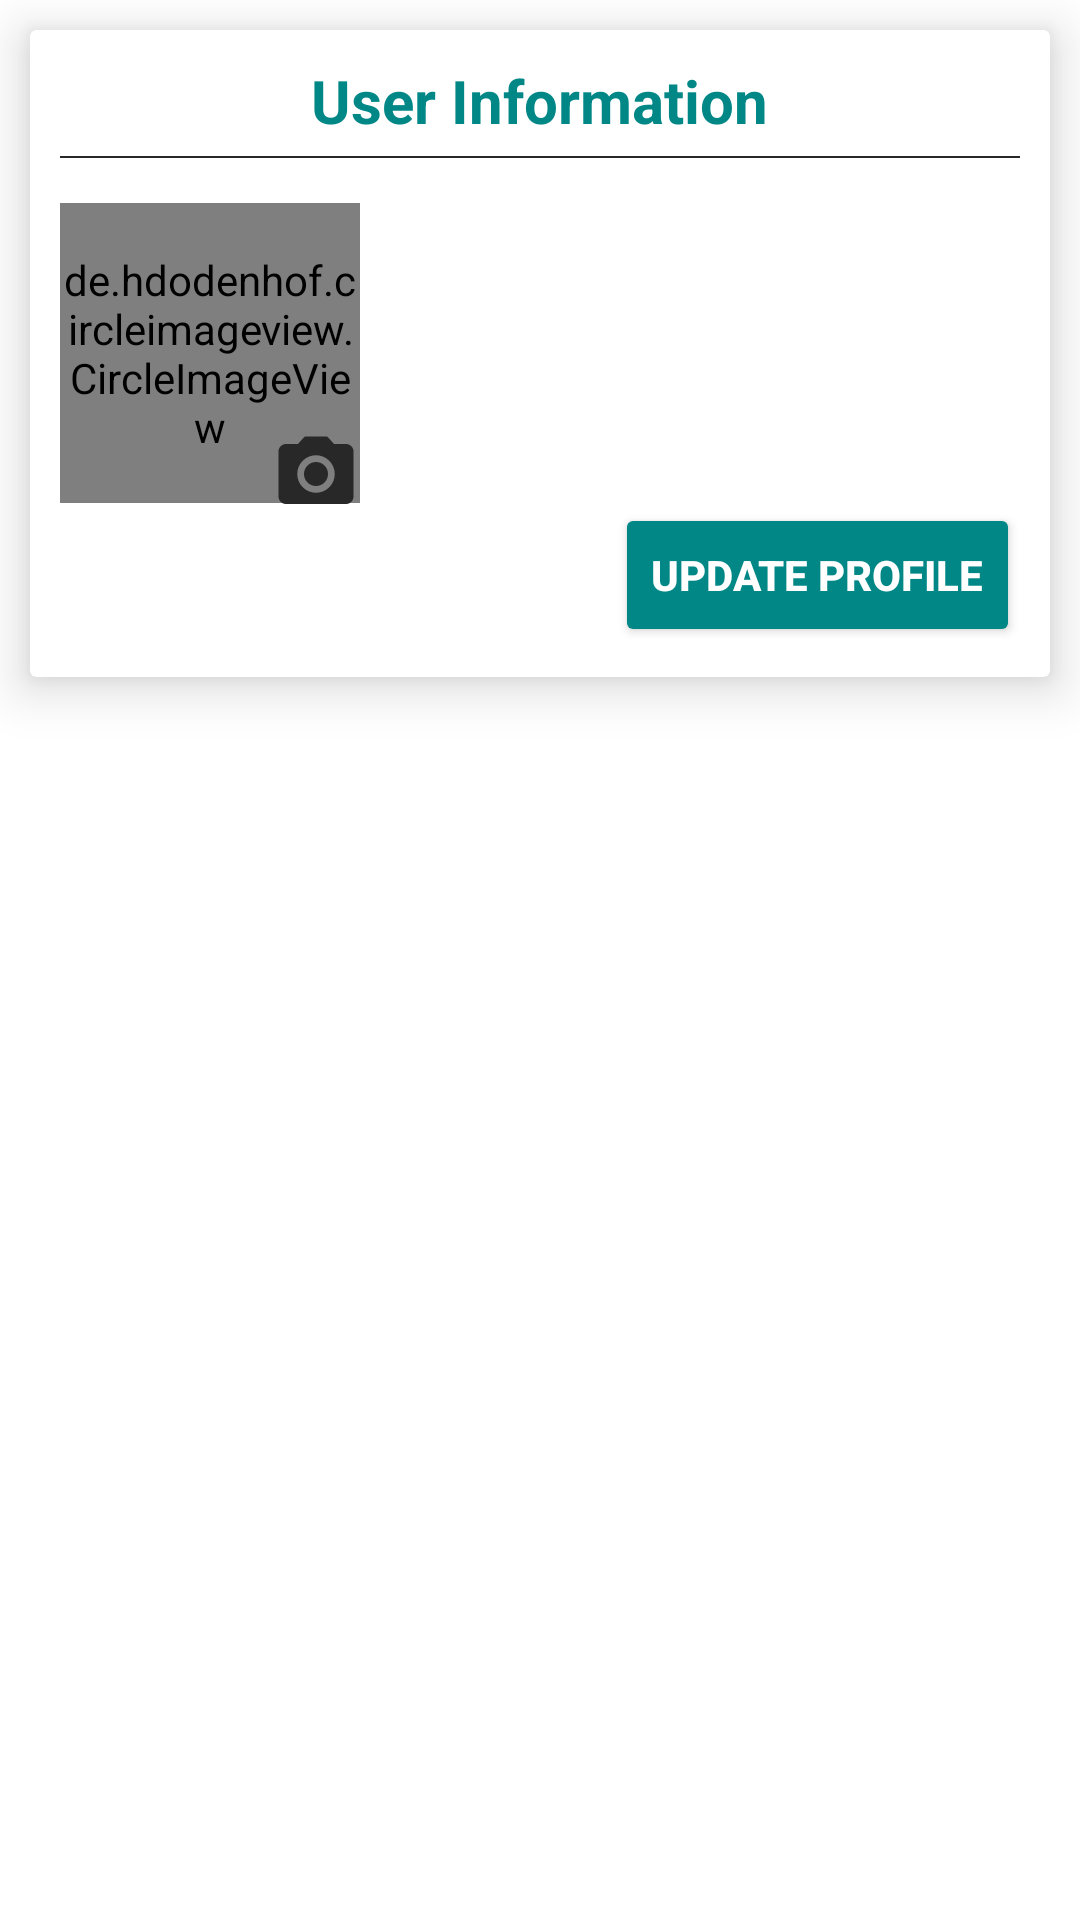

Named icons in this screenshot (1080 × 1920) and their centers, (x=x, y=y):
photo camera: (x=316, y=474)
